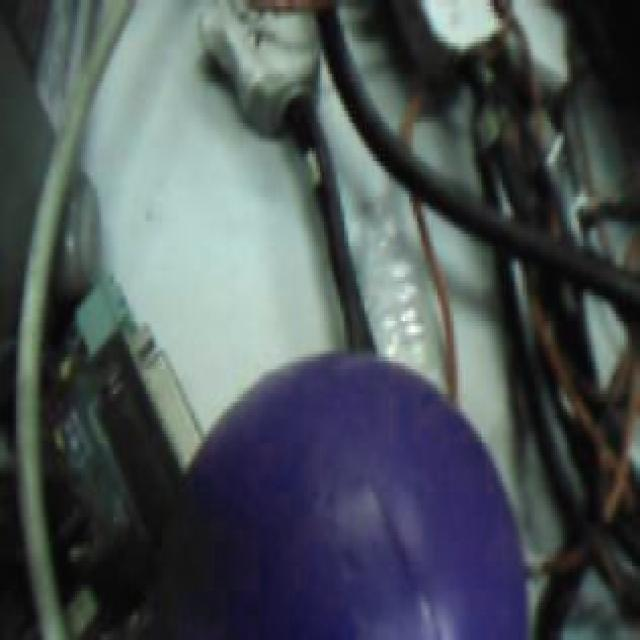BallPurple: (166, 351, 529, 640)
